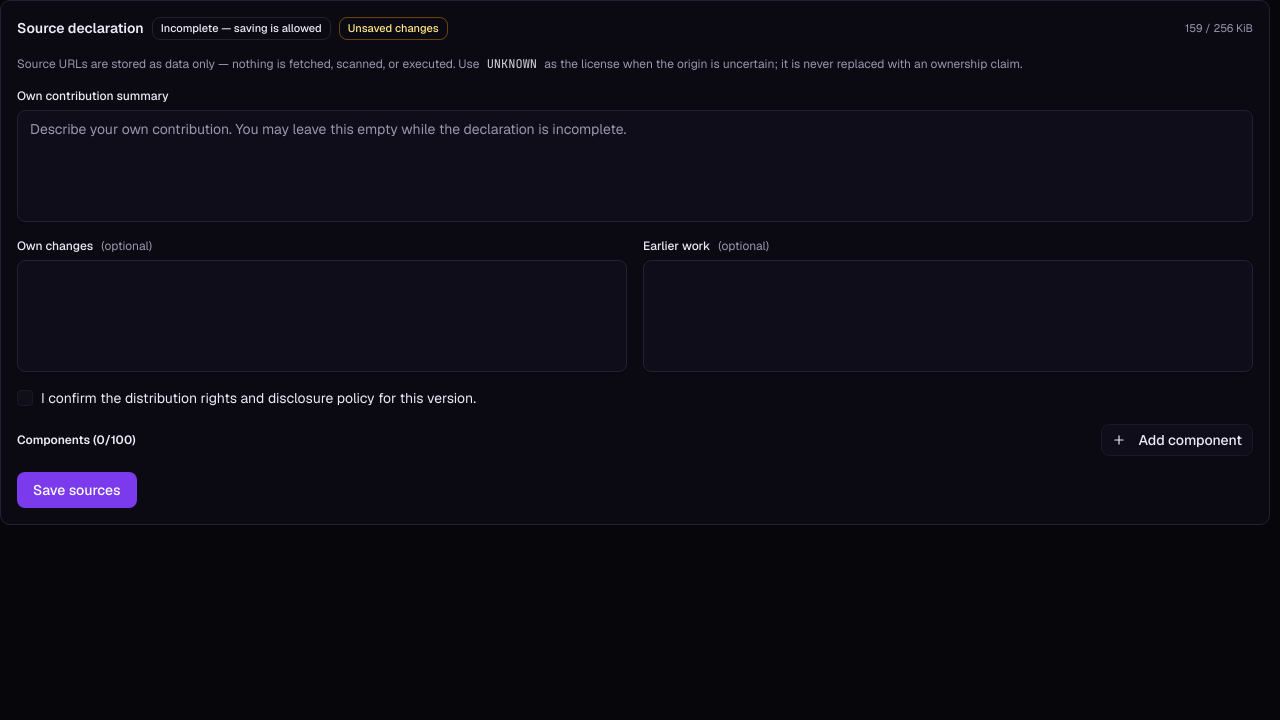
Test case: SourceDeclarationEditor › shows completeness from the backend snapshot after a save
Check: the button "Add component" is shown, box 1101,424 -> 1253,456
Check: the text "Incomplete — saving is allowed" is shown, box 152,17 -> 331,40
Type "Full declaration" into the text box labelled "Own contribution summary" at [635, 166], box 17,110 -> 1253,222
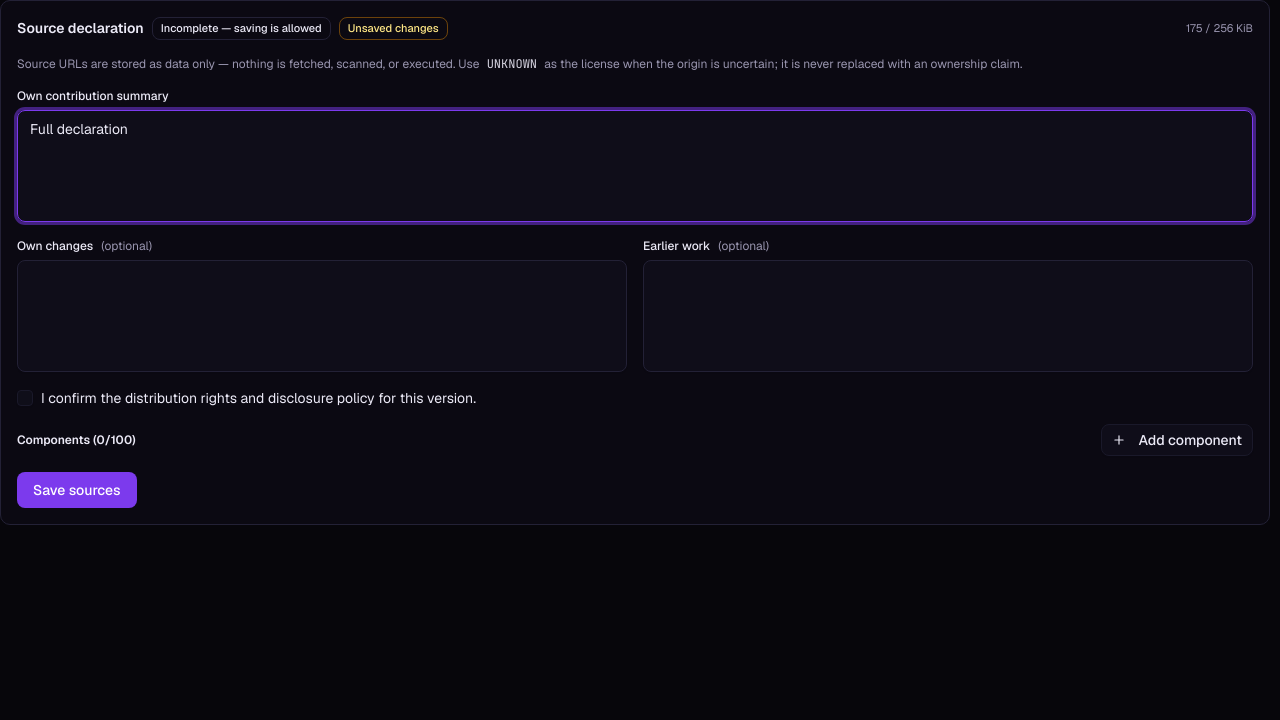
Click the button "Save sources" at [77, 490], box 17,472 -> 136,508
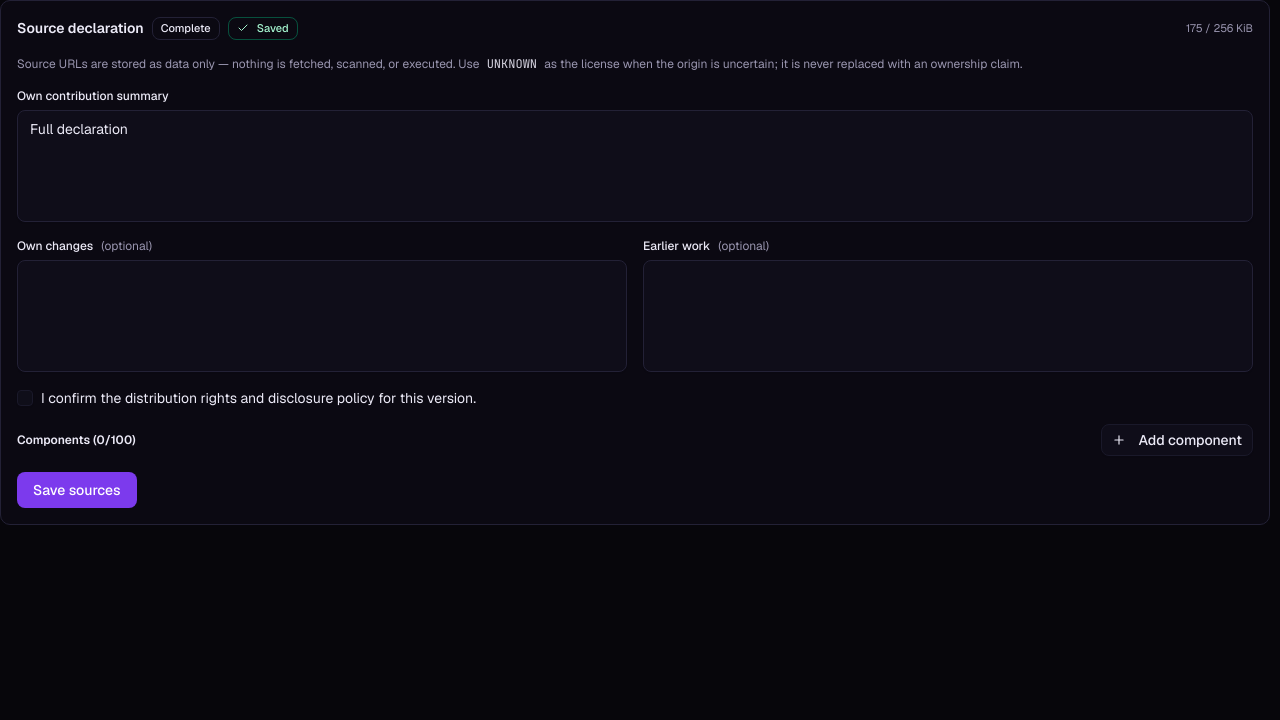
Check: the text "Complete" is shown, box 152,17 -> 220,40
